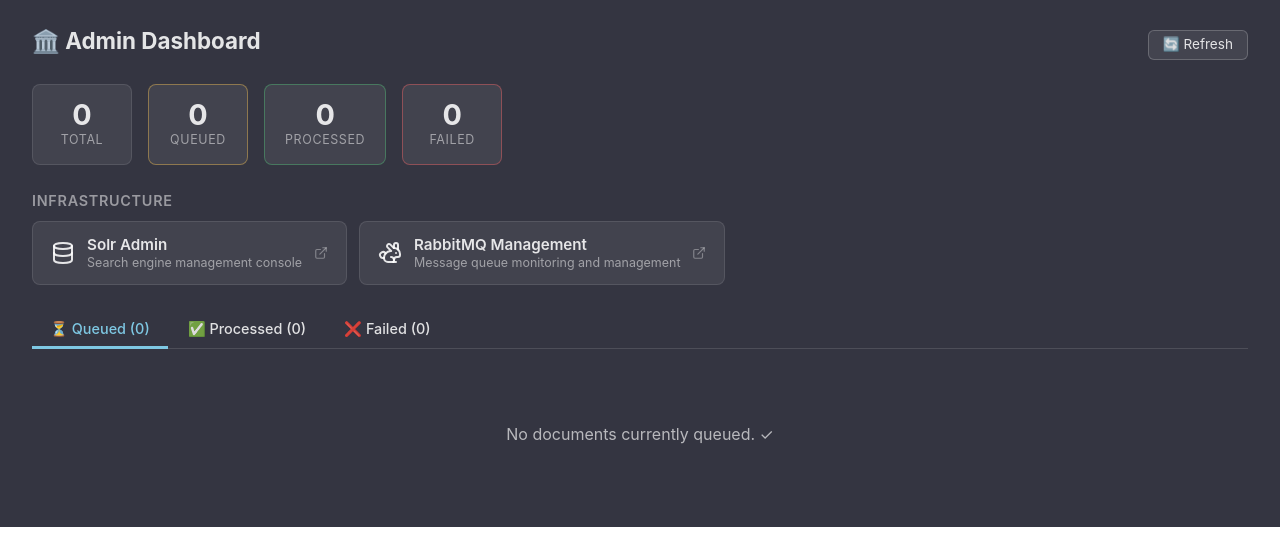
Test: AdminPage › shows failed empty state when no failed documents
The width and height of the screenshot is (1280, 544).
What coordinates should you click on to do the following:
click the tab "❌ Failed (0)"
I would click on:
 (387, 331)
Its box is 326,313 -> 449,349.
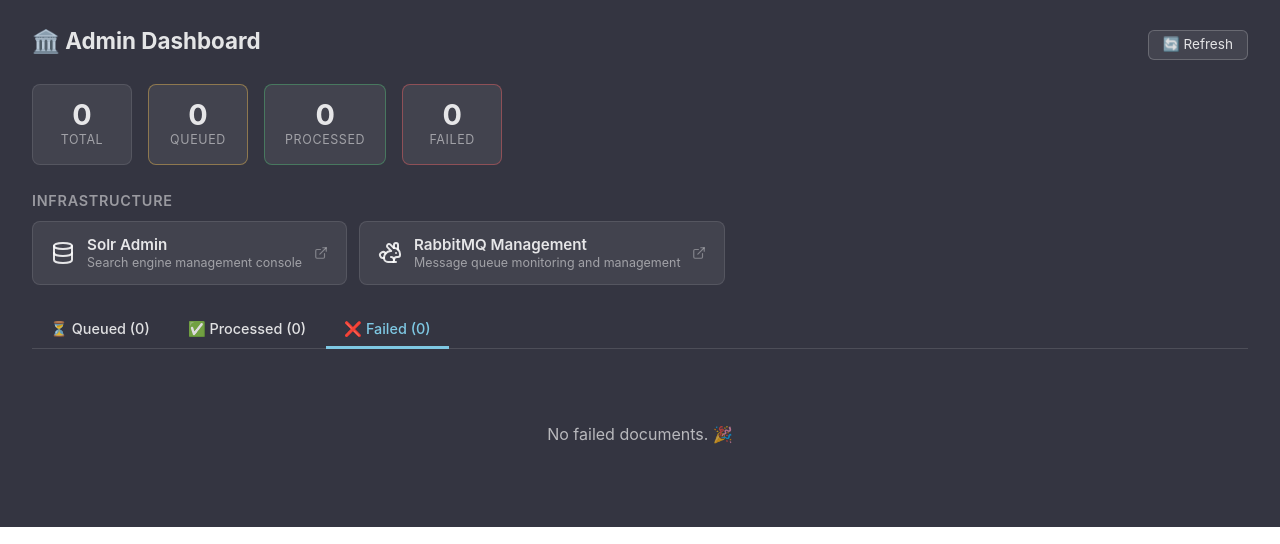
Expected: the text "No failed documents. 🎉" is shown, 547,424 -> 733,444
